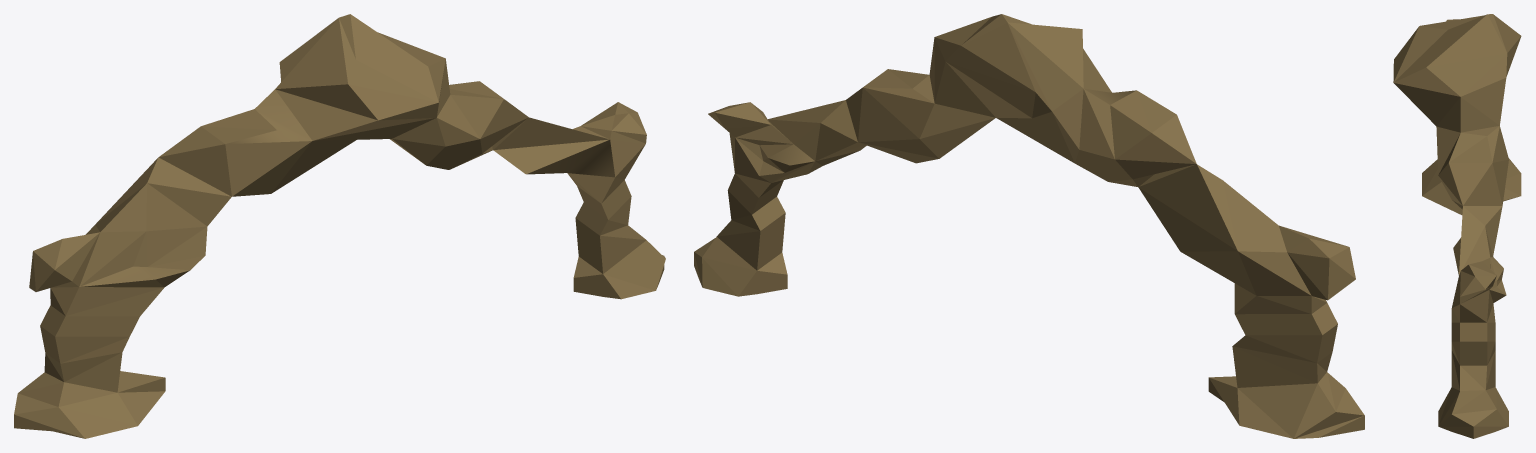
Rendered from Archway_02.fbx.
3 views of the same model, side by side, from view 1: azimuth 30°, elevation 25°; view 2: azimuth 150°, elevation 25°; view 3: azimuth 270°, elevation 25° (orthographic). The views are drawn at different scales.
Parts seen in each view (by area): view 1: pSolid8; view 2: pSolid8; view 3: pSolid8.
Boxes of the visible parts, x1,y1,x2,y2 form: pSolid8: (14,14,665,438); pSolid8: (694,14,1364,438); pSolid8: (1393,14,1521,438).
Size of the model in its own units: 17.74 by 8.48 by 3.38.
